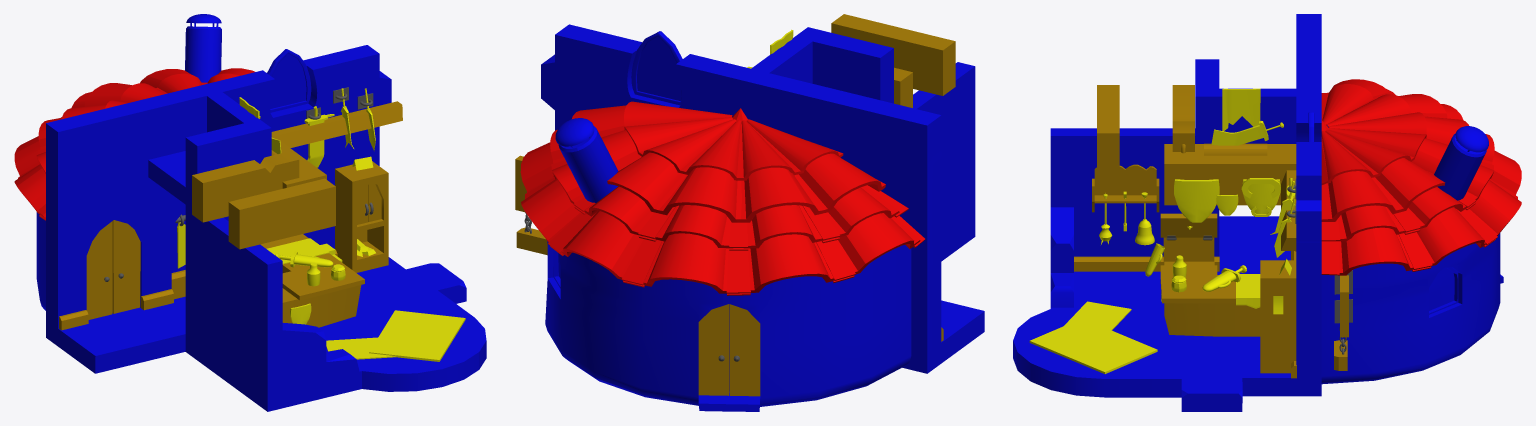
File: Diorama Maya.fbx
3 renders of one model, left to right at view 1: azimuth 30°, elevation 25°; view 2: azimuth 150°, elevation 25°; view 3: azimuth 270°, elevation 25°, orthographic. The views are drawn at different scales.
Parts seen in each view (by area): view 1: Camino1, Spada_Lunga2, polySurface61, Tetto, polySurface76, polySurface60, polySurface75, polySurface108, polySurface63, polySurface109, polySurface62, polySurface69 (+2 smaller); view 2: Camino1, Tetto, polySurface61, polySurface110, polySurface111, polySurface99, polySurface60, polySurface79; view 3: Camino1, Tetto, Spada_Lunga2, polySurface75, polySurface62, polySurface76, polySurface66, polySurface61, polySurface60, polySurface71, polySurface68, polySurface67 (+3 smaller).
Part boxes in pixels (bbox=[...]): Camino1: bbox=[36, 14, 486, 411]; Spada_Lunga2: bbox=[177, 88, 465, 361]; polySurface61: bbox=[228, 178, 335, 249]; Tetto: bbox=[14, 68, 254, 220]; polySurface76: bbox=[335, 161, 388, 272]; polySurface60: bbox=[192, 151, 299, 222]; polySurface75: bbox=[260, 234, 364, 327]; polySurface108: bbox=[112, 220, 140, 313]; polySurface63: bbox=[271, 101, 402, 147]; polySurface109: bbox=[86, 221, 112, 319]; polySurface62: bbox=[271, 135, 326, 188]; polySurface69: bbox=[141, 289, 173, 310]; Camino1: bbox=[541, 24, 984, 411]; Tetto: bbox=[520, 101, 925, 295]; polySurface61: bbox=[831, 14, 955, 95]; polySurface110: bbox=[698, 304, 729, 395]; polySurface111: bbox=[729, 304, 760, 396]; polySurface99: bbox=[516, 213, 547, 255]; polySurface60: bbox=[894, 67, 912, 107]; polySurface79: bbox=[515, 155, 526, 212]; Camino1: bbox=[1013, 14, 1503, 411]; Tetto: bbox=[1321, 79, 1521, 275]; Spada_Lunga2: bbox=[1029, 88, 1295, 373]; polySurface75: bbox=[1160, 261, 1260, 336]; polySurface62: bbox=[1164, 144, 1296, 205]; polySurface76: bbox=[1260, 260, 1296, 373]; polySurface66: bbox=[1092, 164, 1159, 212]; polySurface61: bbox=[1097, 85, 1119, 173]; polySurface60: bbox=[1172, 85, 1194, 151]; polySurface71: bbox=[1074, 256, 1219, 271]; polySurface68: bbox=[1160, 213, 1217, 237]; polySurface67: bbox=[1163, 237, 1214, 264].
Bounding box in the file's own units: 4.61 × 2.9 × 5.55.
